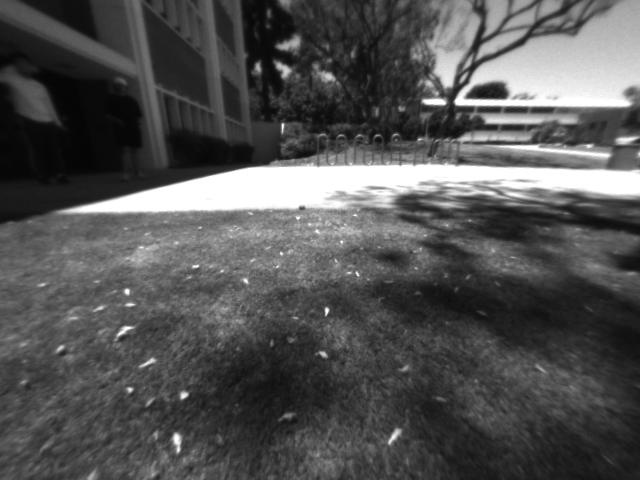dogtoy: (291, 195, 315, 217)
